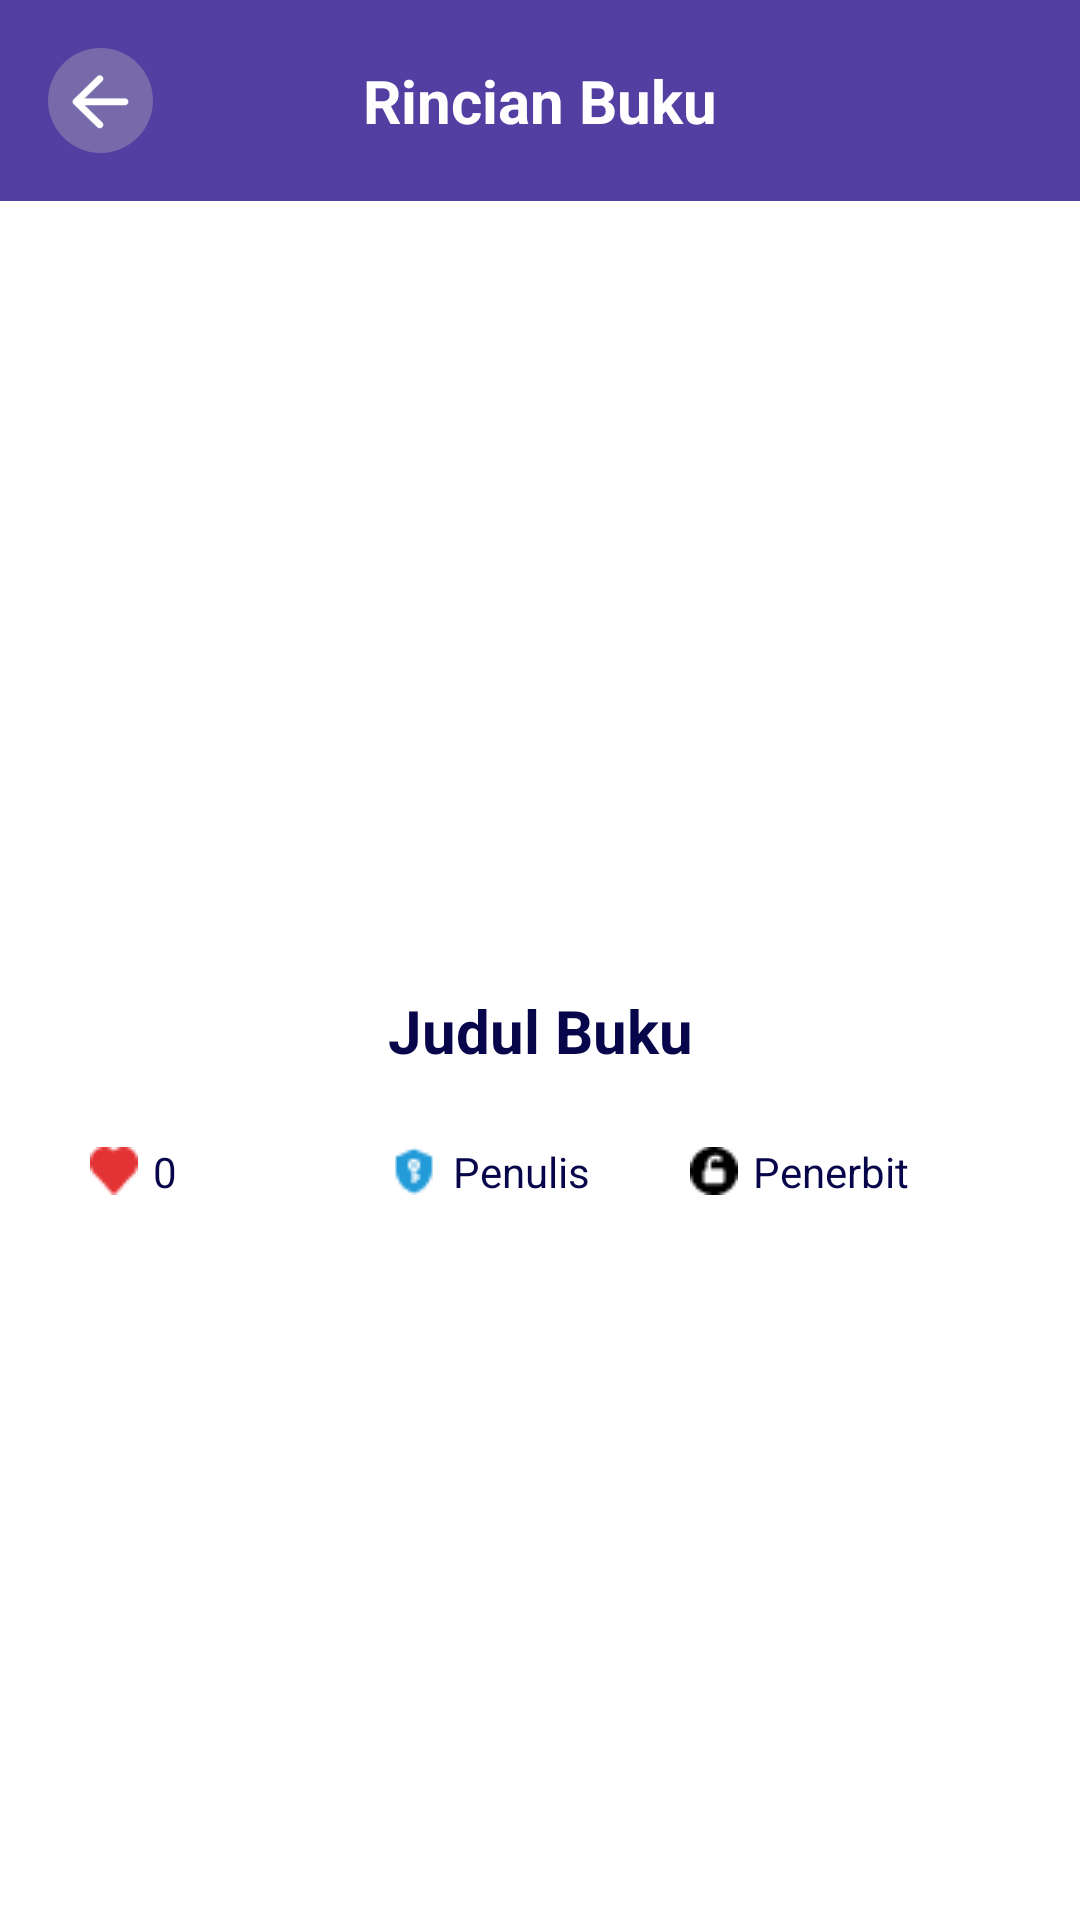

Icon bounding boxes for this 1080px x 1920px phone screenshot, format (x1=x1, y1=y1, x2=x2, y2=y2):
back: (x1=48, y1=48, x2=153, y2=153)
